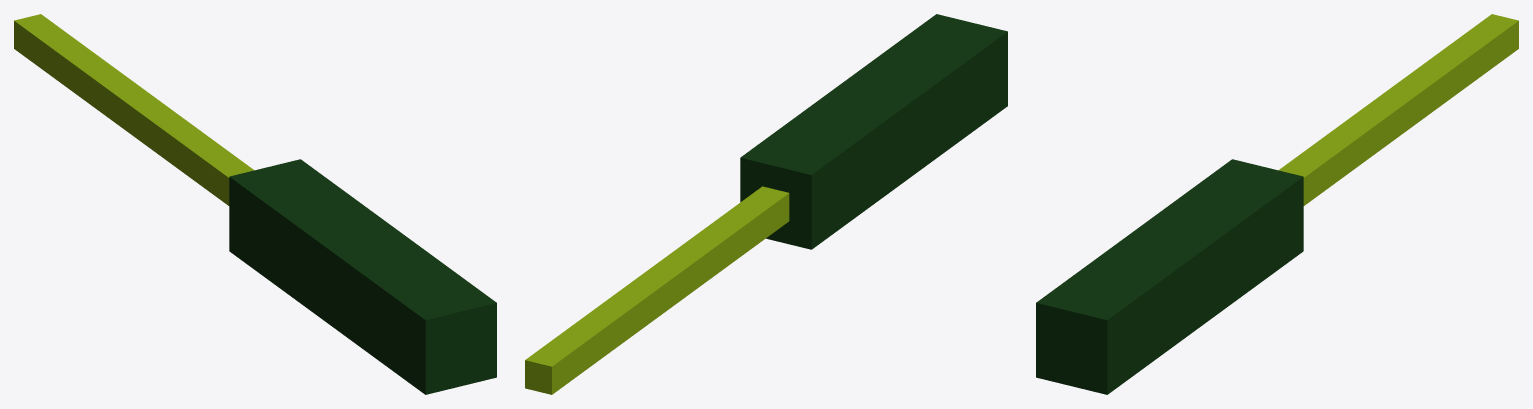
The model's file is screwdriver.obj.
3 views of the same model, side by side, from view 1: azimuth 30°, elevation 25°; view 2: azimuth 150°, elevation 25°; view 3: azimuth 330°, elevation 25° (orthographic).
Visible parts, largest first — view 1: Cube; view 2: Cube; view 3: Cube.
Boxes of the visible parts, x1=… form: Cube: x1=14, y1=14, x2=496, y2=394; Cube: x1=525, y1=14, x2=1007, y2=394; Cube: x1=1036, y1=14, x2=1518, y2=394.
Size of the model in its own units: 0.0271 by 0.0271 by 0.2854.
